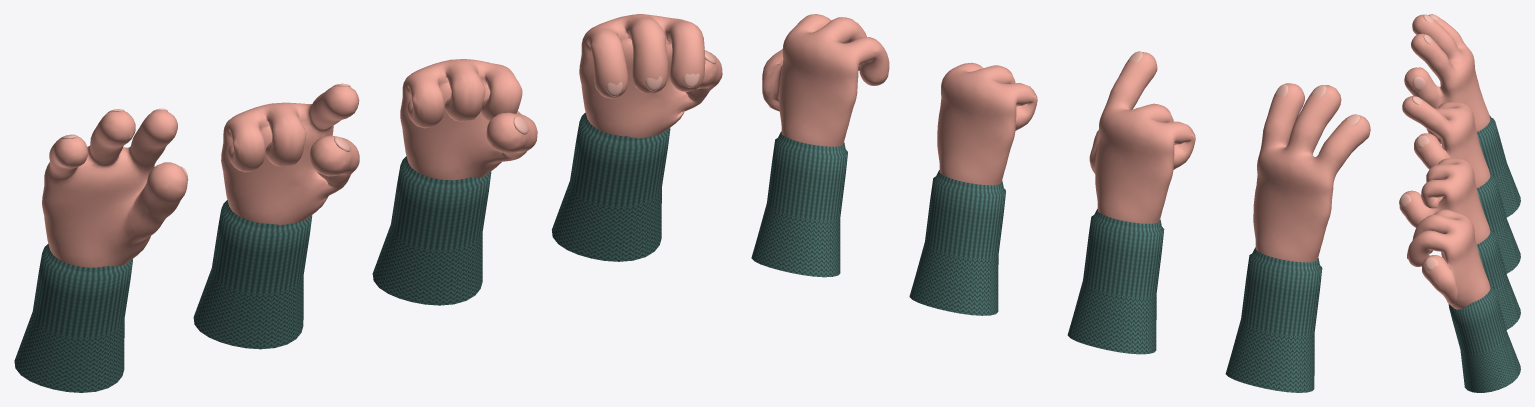
File: lineup_palm.glb
3 renders of one model, left to right at view 1: azimuth 30°, elevation 25°; view 2: azimuth 150°, elevation 25°; view 3: azimuth 270°, elevation 25°, orthographic. The views are drawn at different scales.
Parts seen in each view (by area): view 1: relaxed_Hand, point_Hand, grip_Hand, fist_Hand, fist_Sleeve_teal, relaxed_Sleeve_teal, point_Sleeve_teal, grip_Sleeve_teal, grip_Nails; view 2: relaxed_Hand, grip_Hand, point_Hand, grip_Sleeve_teal, fist_Sleeve_teal, point_Sleeve_teal, relaxed_Sleeve_teal, fist_Hand; view 3: grip_Hand, relaxed_Hand, grip_Sleeve_teal, point_Hand, fist_Hand, fist_Sleeve_teal, point_Sleeve_teal, relaxed_Sleeve_teal, relaxed_Nails, point_Nails, grip_Nails.
Boxes of the visible parts, <box> form: relaxed_Hand: <box>42,110,187,267</box>; point_Hand: <box>221,86,359,224</box>; grip_Hand: <box>579,14,722,138</box>; fist_Hand: <box>400,59,537,180</box>; fist_Sleeve_teal: <box>372,156,491,305</box>; relaxed_Sleeve_teal: <box>14,244,132,392</box>; point_Sleeve_teal: <box>193,200,312,349</box>; grip_Sleeve_teal: <box>552,112,670,261</box>; grip_Nails: <box>606,50,715,96</box>; relaxed_Hand: <box>1253,83,1370,262</box>; grip_Hand: <box>762,14,889,146</box>; point_Hand: <box>1089,52,1195,223</box>; grip_Sleeve_teal: <box>751,131,847,277</box>; fist_Sleeve_teal: <box>909,170,1005,315</box>; point_Sleeve_teal: <box>1067,209,1164,354</box>; relaxed_Sleeve_teal: <box>1225,247,1322,392</box>; fist_Hand: <box>937,62,1037,185</box>; grip_Hand: <box>1407,209,1490,309</box>; relaxed_Hand: <box>1404,14,1490,131</box>; grip_Sleeve_teal: <box>1448,284,1520,392</box>; point_Hand: <box>1402,96,1490,187</box>; fist_Hand: <box>1399,158,1490,244</box>; fist_Sleeve_teal: <box>1477,228,1520,329</box>; point_Sleeve_teal: <box>1477,171,1520,273</box>; relaxed_Sleeve_teal: <box>1477,115,1520,217</box>; relaxed_Nails: <box>1412,14,1440,91</box>; point_Nails: <box>1412,96,1429,148</box>; grip_Nails: <box>1407,252,1438,270</box>.
Size of the model in its own units: 0.6765 by 0.2948 by 0.165.
Materials: 4 (2 with a texture image).
